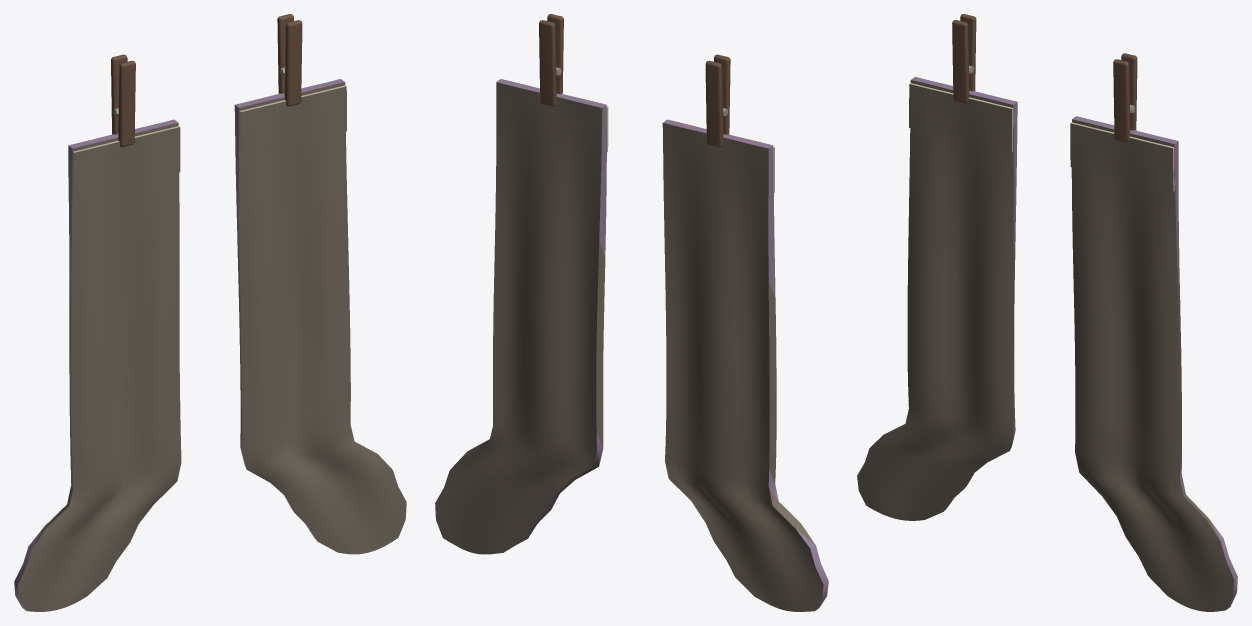
The model's file is socks-line-mint-2946ade01dab.glb.
3 views of the same model, side by side, from view 1: azimuth 30°, elevation 25°; view 2: azimuth 150°, elevation 25°; view 3: azimuth 330°, elevation 25° (orthographic). The views are drawn at different scales.
Parts seen in each view (by area): view 1: cover-cloth, wood, cloth-lilac, cloth-cream; view 2: cover-cloth, wood, cloth-lilac; view 3: cover-cloth, wood, cloth-lilac, cloth-cream.
Boxes of the visible parts, x1,y1,x2,y2 form: cover-cloth: (18,82,406,611); wood: (111,14,302,147); cloth-lilac: (14,79,344,610); cloth-cream: (72,85,346,197); cover-cloth: (435,82,823,611); wood: (539,14,730,147); cloth-lilac: (450,79,828,610); cover-cloth: (857,80,1234,611); wood: (952,14,1137,142); cloth-lilac: (911,76,1237,609); cloth-cream: (910,83,1174,191).
Bounding box in the file's own units: 0.2618 × 0.354 × 0.014.
